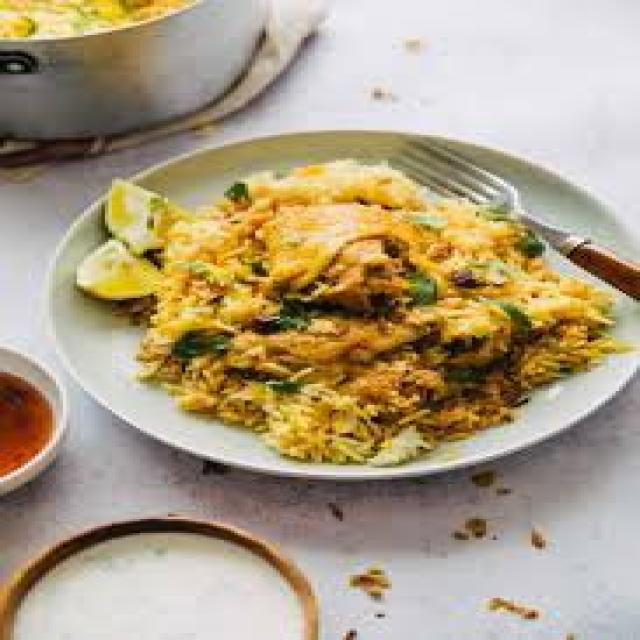chicken biryani: (167, 170, 604, 466)
